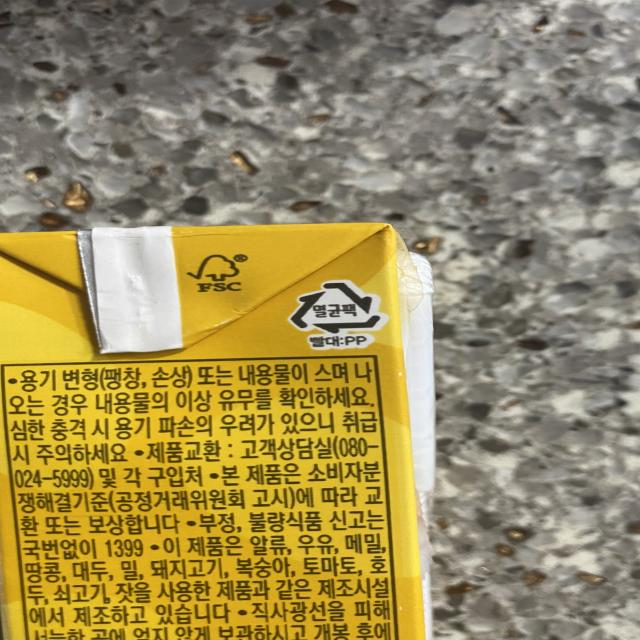SterilizedPack: (285, 278, 388, 336)
